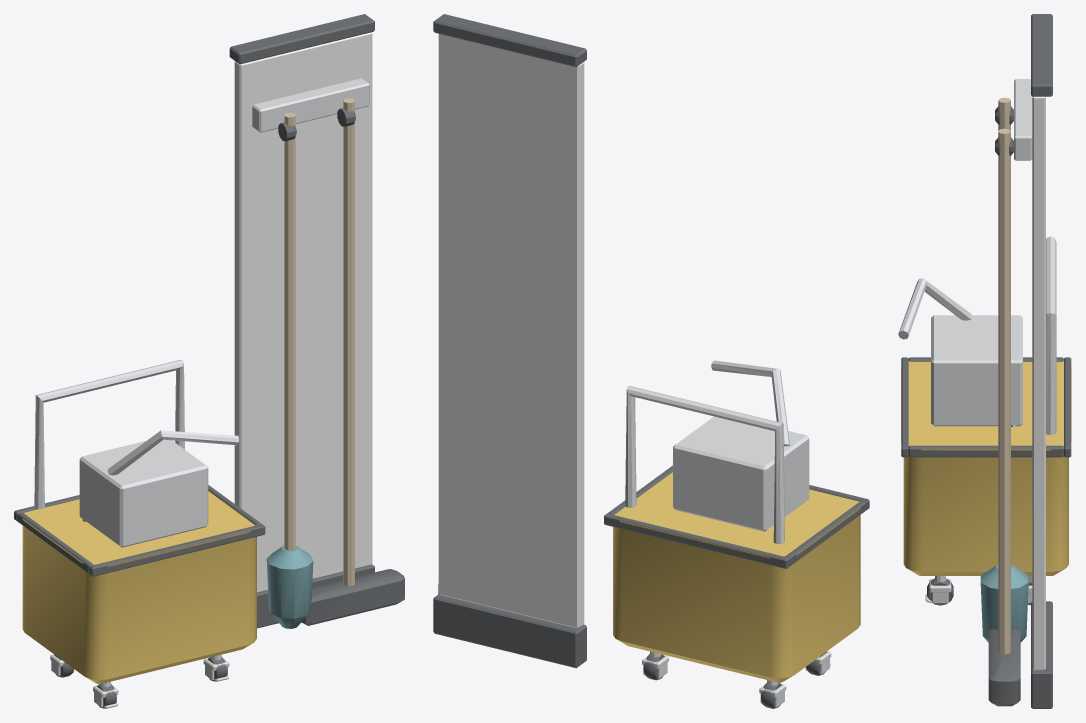
Rendered from clinic-and-veterinary-practice-mop-and-cleaning-statio-d5b29339__16829.glb.
The picture shows the model from 3 angles, left to right: view 1: azimuth 30°, elevation 25°; view 2: azimuth 150°, elevation 25°; view 3: azimuth 270°, elevation 25°; orthographic projection. The views are drawn at different scales.
Visible parts, largest first — view 1: mop-and-cleaning-station; view 2: mop-and-cleaning-station; view 3: mop-and-cleaning-station.
Boxes of the visible parts, x1,y1,x2,y2 form: mop-and-cleaning-station: (14, 14, 404, 708); mop-and-cleaning-station: (433, 14, 869, 708); mop-and-cleaning-station: (898, 14, 1071, 708).
Size of the model in its own units: 0.966 by 1.5 by 0.3777.
